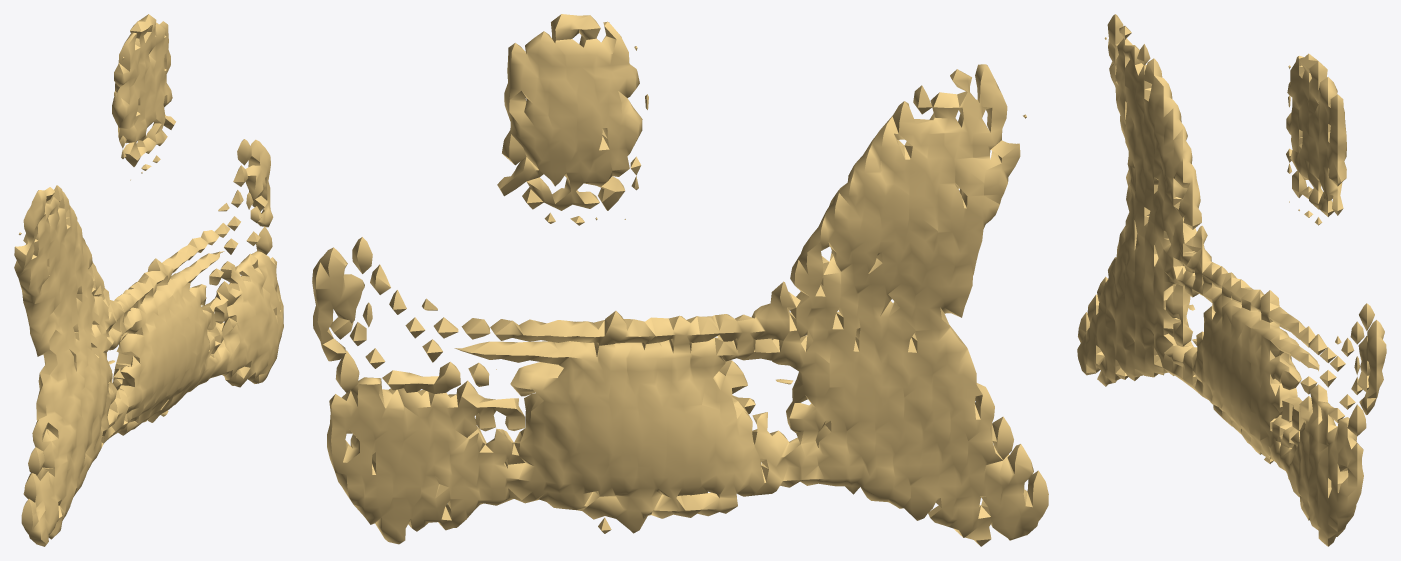
The model's file is envelope.classical.von_mises.p99.glb.
The picture shows the model from 3 angles, left to right: view 1: azimuth 30°, elevation 25°; view 2: azimuth 150°, elevation 25°; view 3: azimuth 270°, elevation 25°; orthographic projection. The views are drawn at different scales.
Visible parts, largest first — view 1: envelope.classical.von_mises.p99; view 2: envelope.classical.von_mises.p99; view 3: envelope.classical.von_mises.p99.
Part boxes in pixels (box(x1,y1,x2,y2)): envelope.classical.von_mises.p99: box(14, 14, 283, 546); envelope.classical.von_mises.p99: box(312, 14, 1048, 546); envelope.classical.von_mises.p99: box(1077, 14, 1386, 546).
Bounding box in the file's own units: 9.78 × 9.76 × 6.4.
